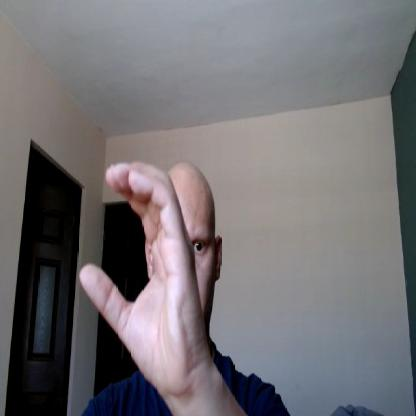C: (78, 160, 203, 395)
